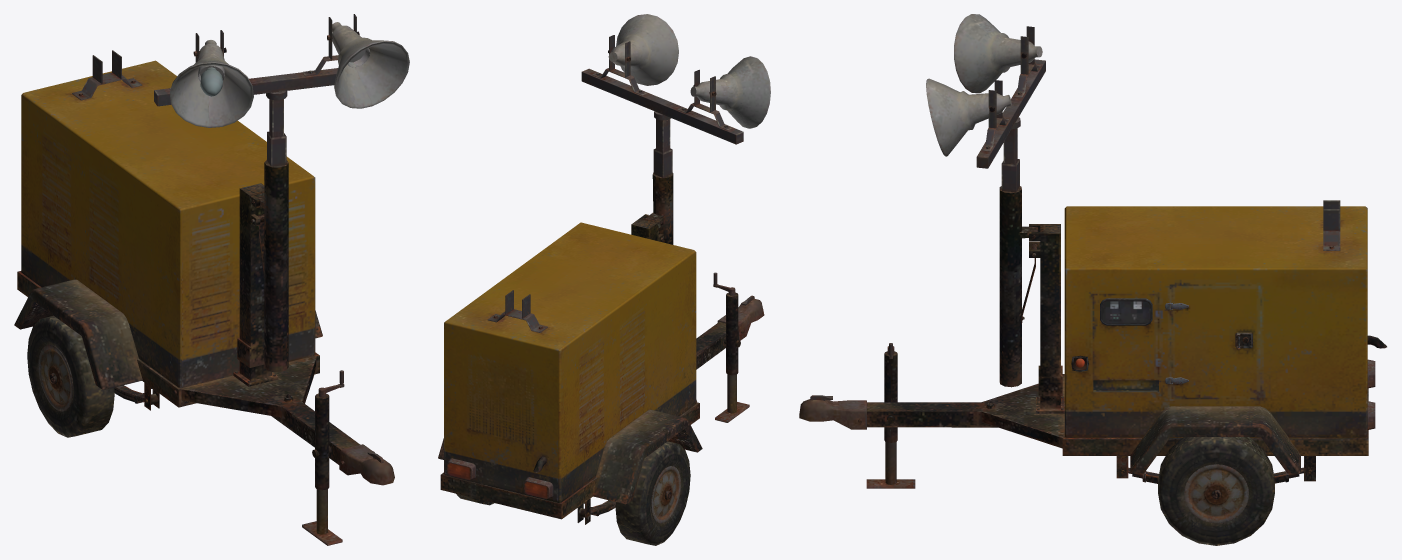
Rendered from sm35_030_lighttower01a.fbx.
3 views of the same model, side by side, from view 1: azimuth 30°, elevation 25°; view 2: azimuth 150°, elevation 25°; view 3: azimuth 270°, elevation 25° (orthographic). The views are drawn at different scales.
Parts seen in each view (by area): view 1: LOD_1_Group_0_Sub_1__sm35_030_LightTower01A_A_Mat1; view 2: LOD_1_Group_0_Sub_1__sm35_030_LightTower01A_A_Mat1; view 3: LOD_1_Group_0_Sub_1__sm35_030_LightTower01A_A_Mat1.
Boxes of the visible parts, bbox=[...] form: LOD_1_Group_0_Sub_1__sm35_030_LightTower01A_A_Mat1: bbox=[14, 14, 409, 545]; LOD_1_Group_0_Sub_1__sm35_030_LightTower01A_A_Mat1: bbox=[438, 14, 770, 545]; LOD_1_Group_0_Sub_1__sm35_030_LightTower01A_A_Mat1: bbox=[799, 14, 1386, 545].
Bounding box in the file's own units: 0.9977 × 1.9 × 2.31.
